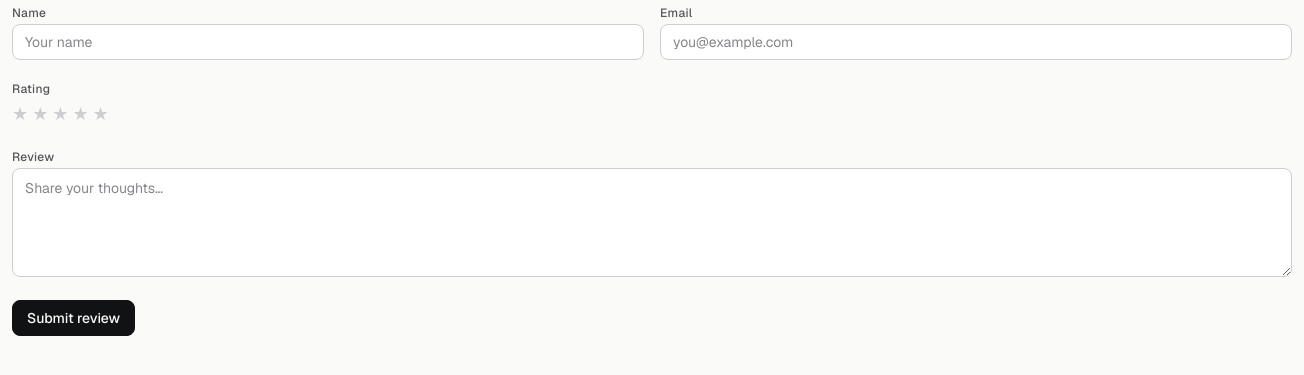
Test: ReviewForm › shows error for short review body
The width and height of the screenshot is (1304, 375).
Type "Jane Doe" into the field labelled "Name" at coordinates (328, 42), box 12,24 -> 644,60
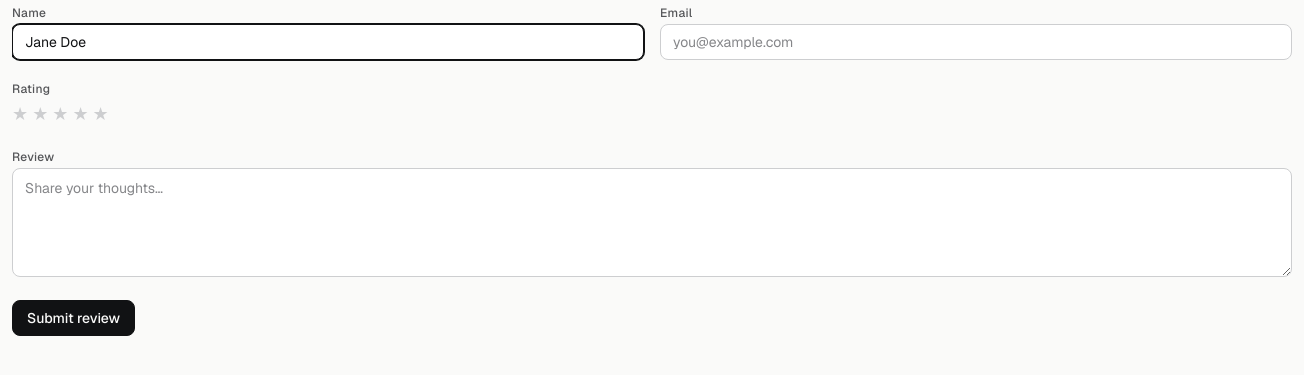
Type "jane@example.com" into the field labelled "Email" at coordinates (976, 42), box 660,24 -> 1292,60
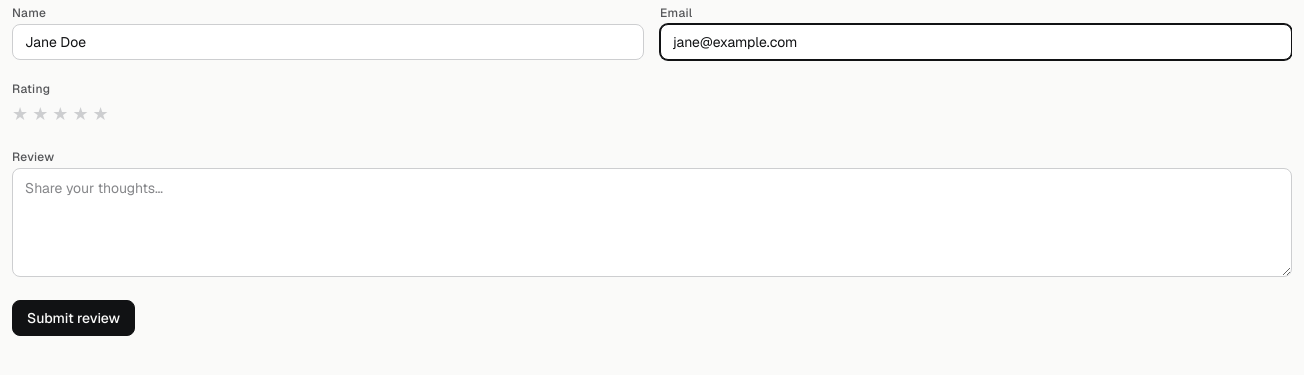
Click the radio button named "5 stars" at coordinates (101, 114), box 93,100 -> 109,128
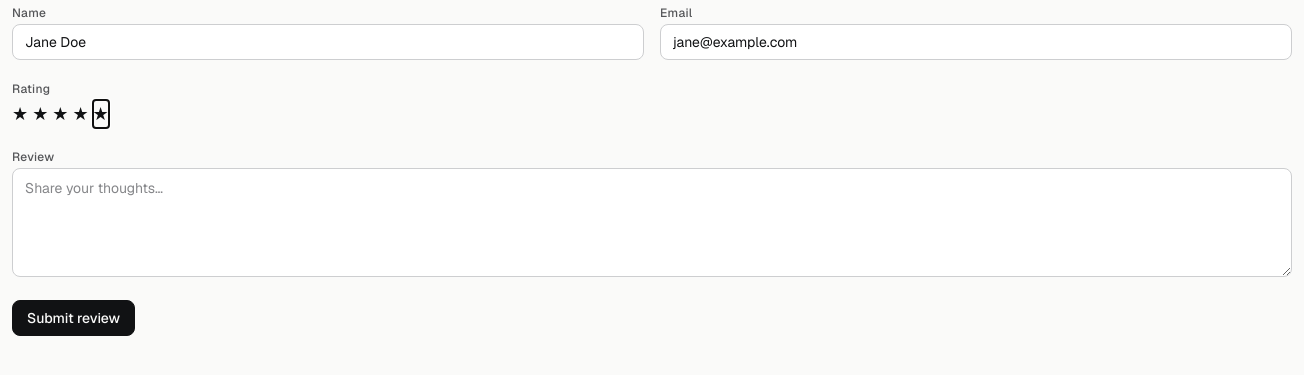
Type "Short" into the text box labelled "Review" at coordinates (652, 222), box 12,168 -> 1292,277
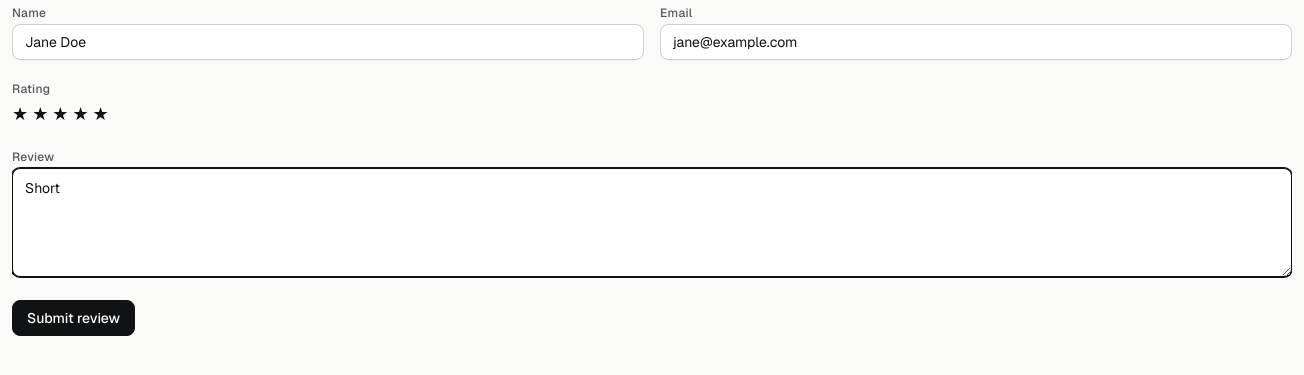
Click the button "Submit review" at coordinates (74, 318), box 12,300 -> 135,336
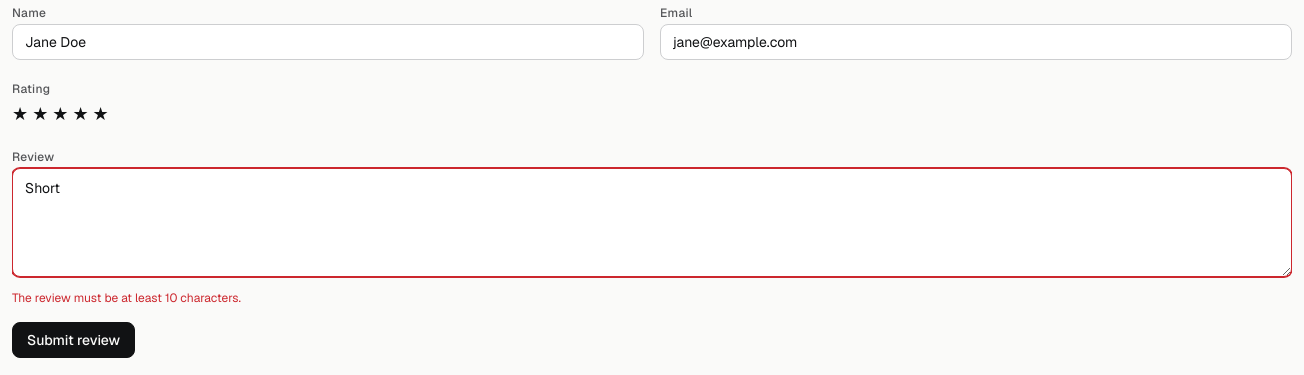
Result: the text "The review must be at least 10 characters." is shown at 12,290 -> 241,306
